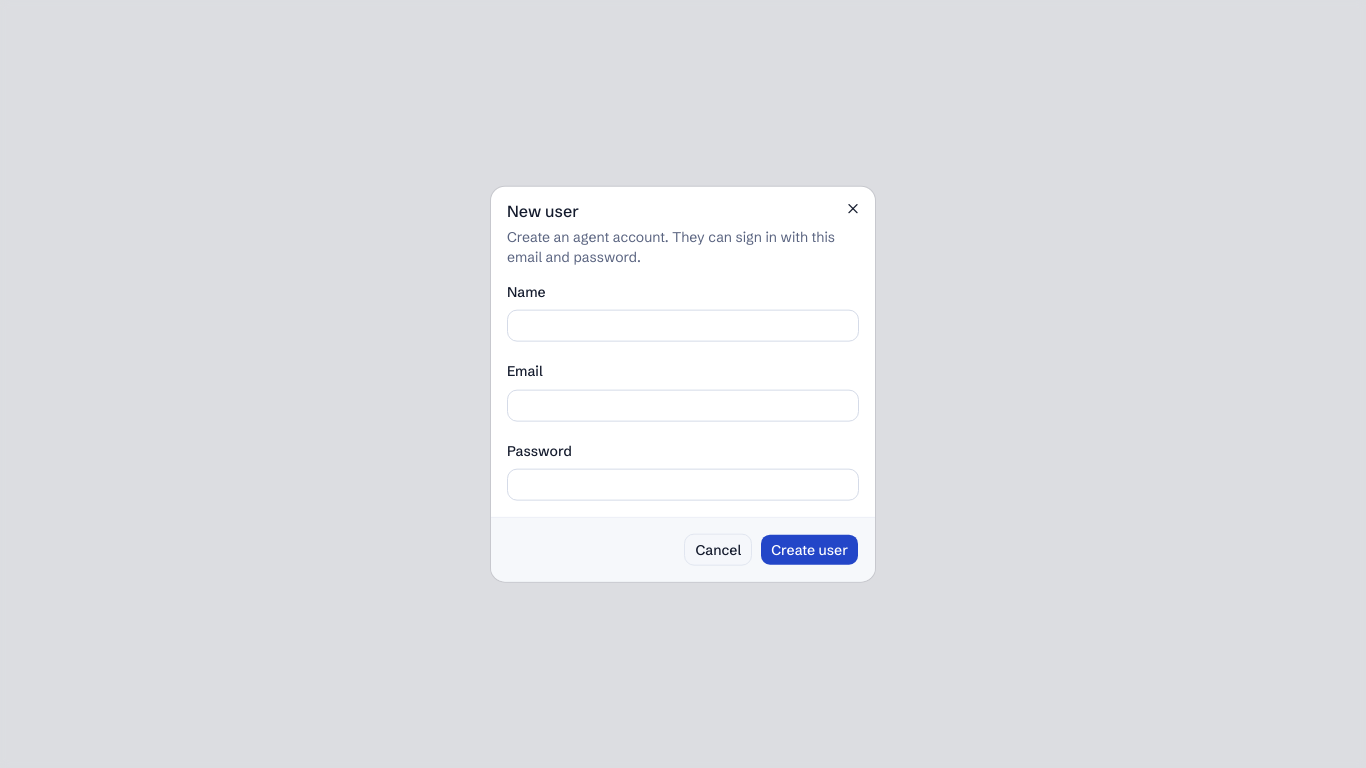
Scenario: UserForm (new user) › rejects a 2-character name, an invalid email and a 7-character password
Expected: the dialog "New user" is shown, [491,187,875,581]
Type "Ab" into the field labelled "Name".
click(683, 326); type("Ab")  # box [507,310,859,342]
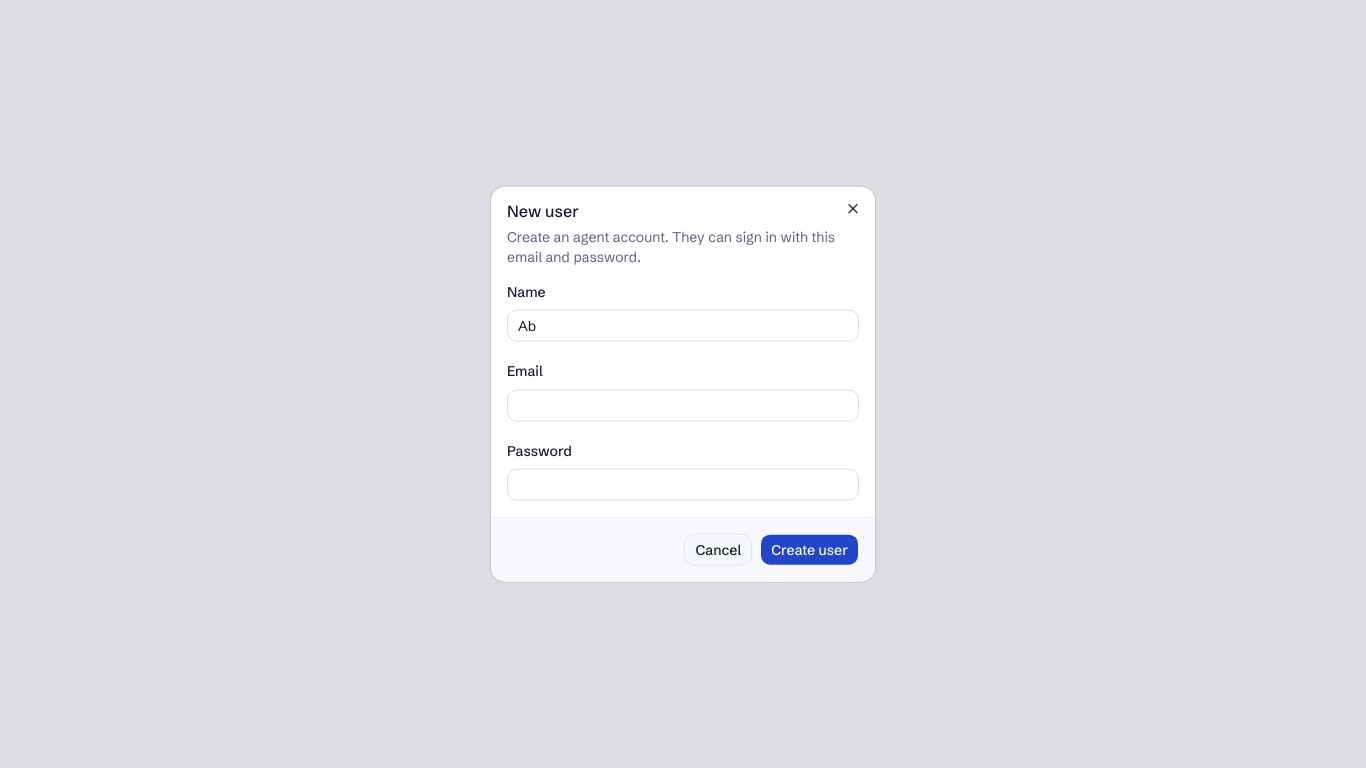
Type "not-an-email" into the field labelled "Email".
click(683, 405); type("not-an-email")  # box [507,389,859,421]
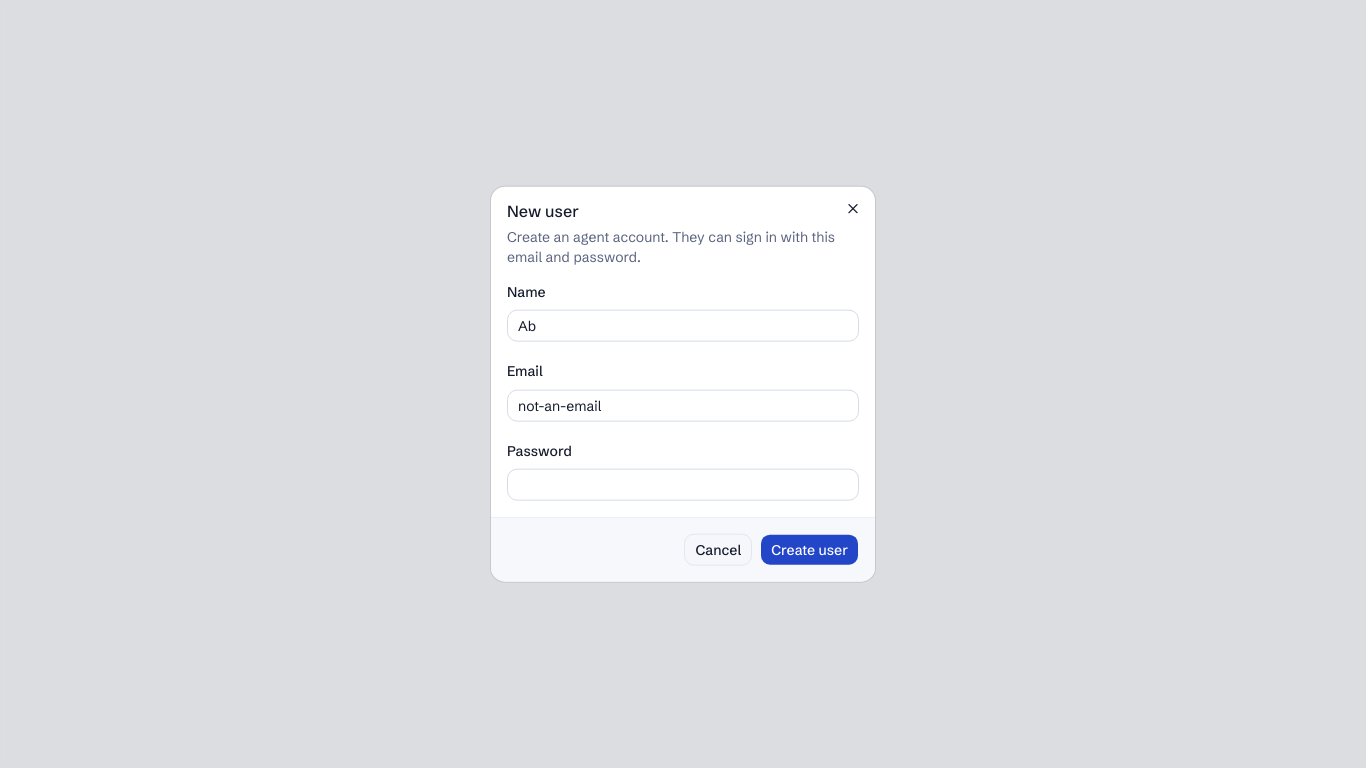
Type "1234567" into the password field labelled "Password".
click(683, 484); type("1234567")  # box [507,468,859,500]
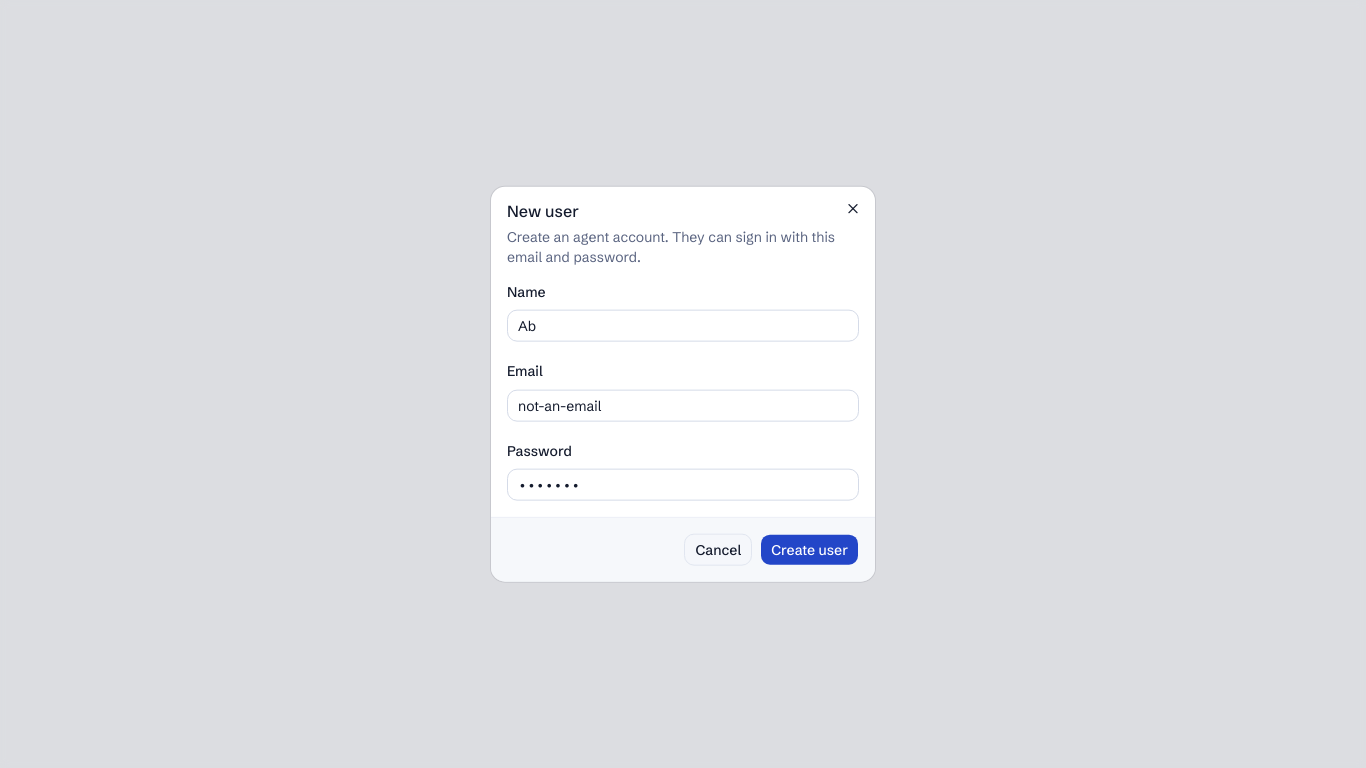
Click the button "Create user".
click(810, 549)  # box [760,533,859,565]
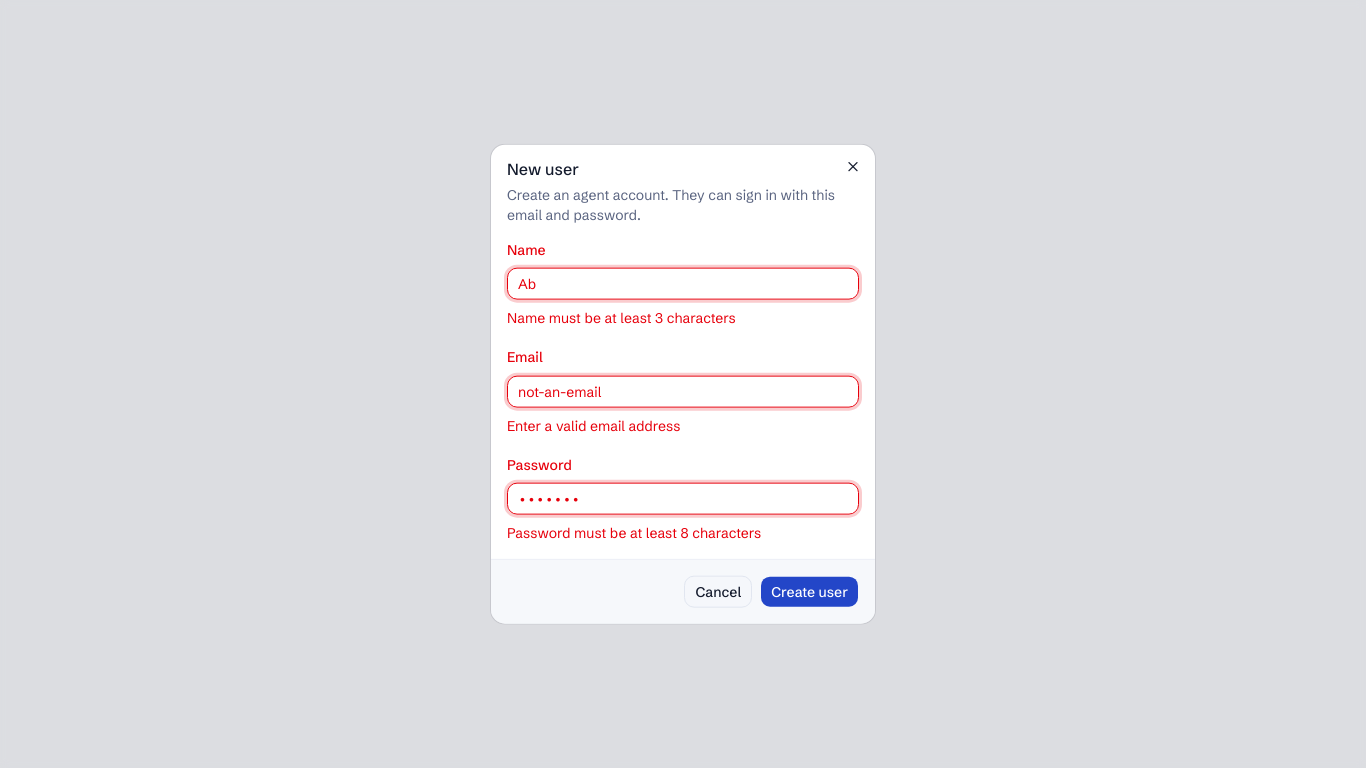
Expected: the text "Name must be at least 3 characters" is shown, [507,309,736,327]
Expected: the text "Enter a valid email address" is shown, [507,416,680,434]
Expected: the text "Password must be at least 8 characters" is shown, [507,523,761,541]
